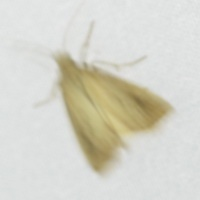insect: (14, 5, 171, 170)
